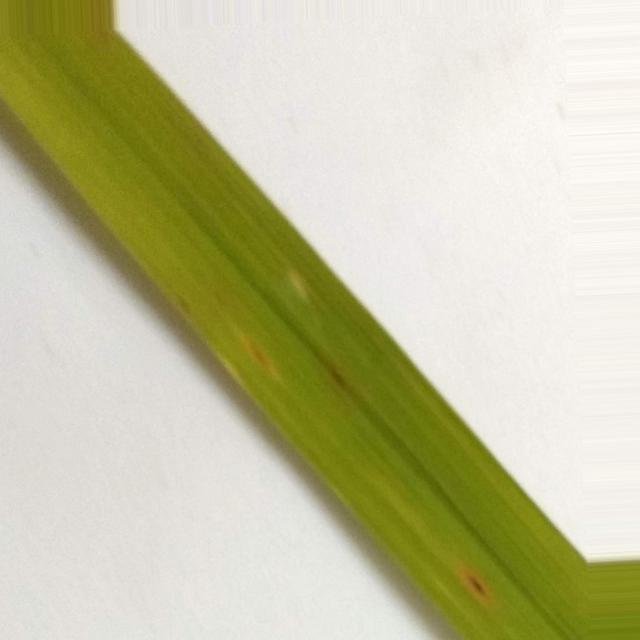Brown_Spot: (240, 334, 279, 380), (456, 565, 494, 605), (329, 369, 351, 390)
